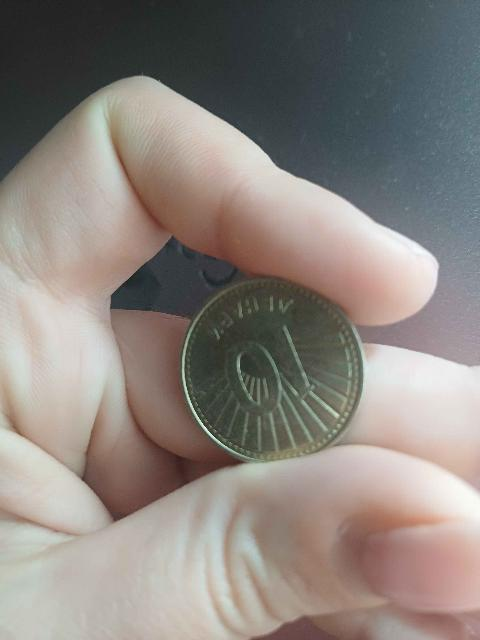10_coin: (181, 278, 363, 461)
